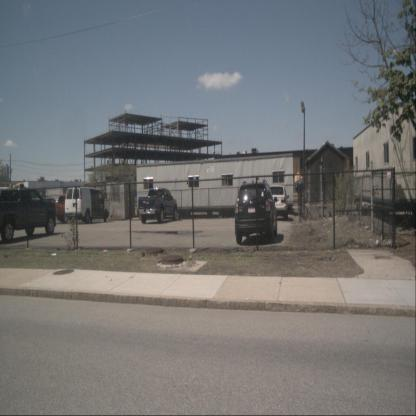vehicle-car: (0, 188, 57, 244), (235, 180, 278, 244), (64, 186, 109, 224), (264, 185, 288, 221)
vehicle-truck: (137, 187, 178, 224), (49, 192, 92, 224)
